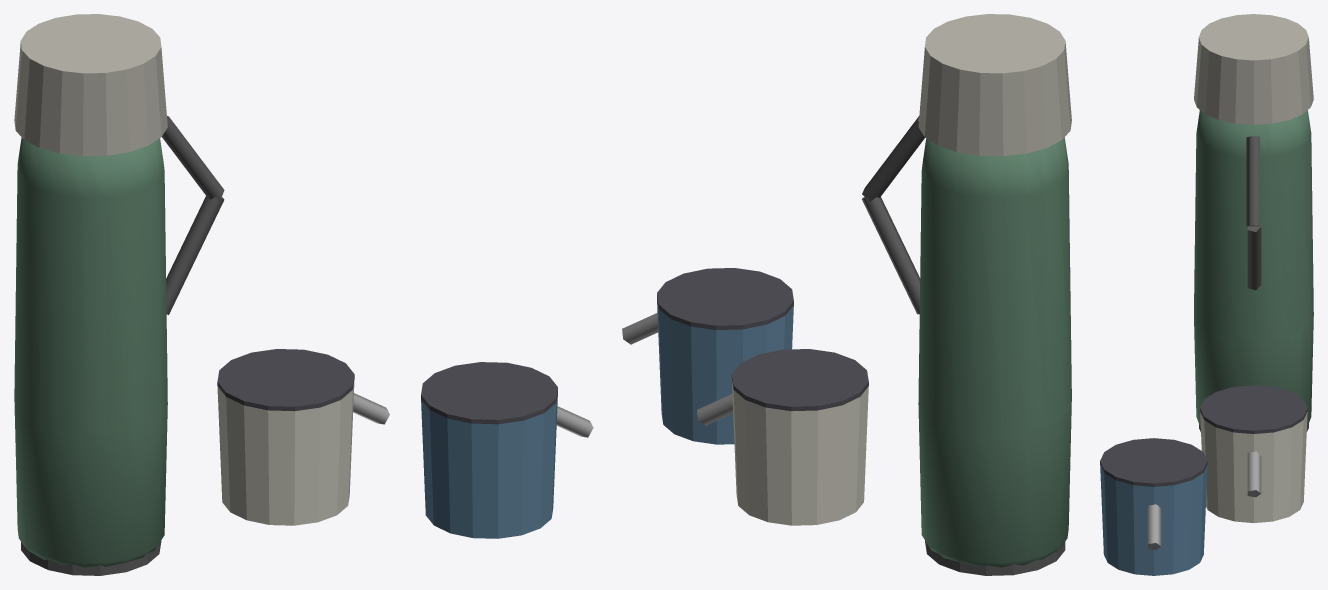
File: cabin_thermos_a.glb
3 renders of one model, left to right at view 1: azimuth 30°, elevation 25°; view 2: azimuth 150°, elevation 25°; view 3: azimuth 270°, elevation 25°, orthographic. The views are drawn at different scales.
Visible parts, largest first — view 1: body; view 2: body; view 3: body.
Boxes of the visible parts, x1=… form: body: x1=14, y1=14, x2=593, y2=575; body: x1=622, y1=14, x2=1071, y2=575; body: x1=1100, y1=14, x2=1313, y2=575.
Size of the model in its own units: 0.3612 by 0.345 by 0.171.
